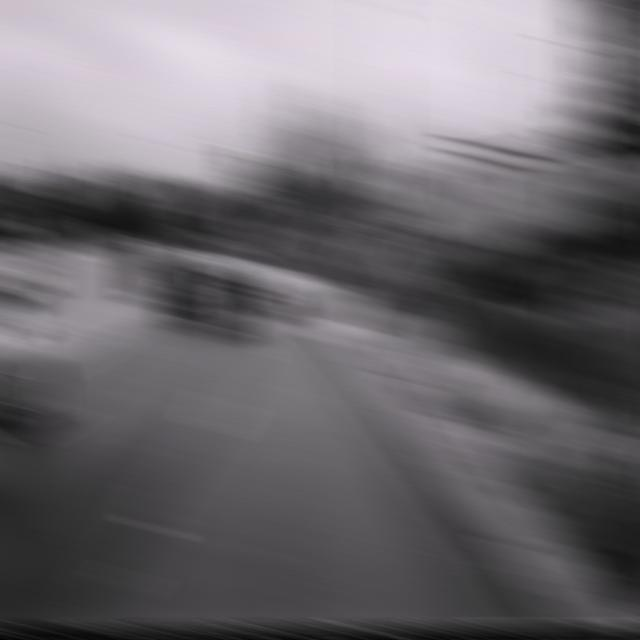pedestrianCrossing: (354, 146, 406, 207)
